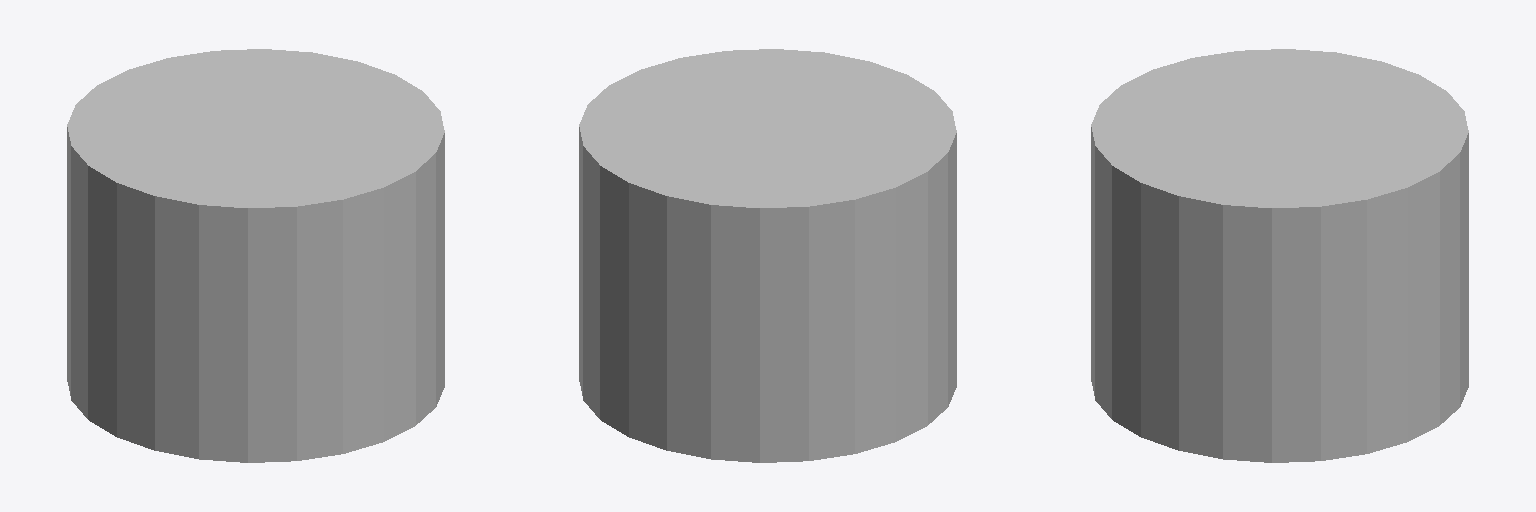
Rendered from original-40.obj.
3 views of the same model, side by side, from view 1: azimuth 30°, elevation 25°; view 2: azimuth 150°, elevation 25°; view 3: azimuth 270°, elevation 25° (orthographic).
Parts seen in each view (by area): view 1: #ID1019; view 2: #ID1019; view 3: #ID1019.
Part boxes in pixels (x1,y1,x2,y2): #ID1019: (67, 49, 444, 462); #ID1019: (579, 49, 956, 462); #ID1019: (1091, 49, 1468, 462).
Bounding box in the file's own units: 0.0484 × 0.036 × 0.0484.